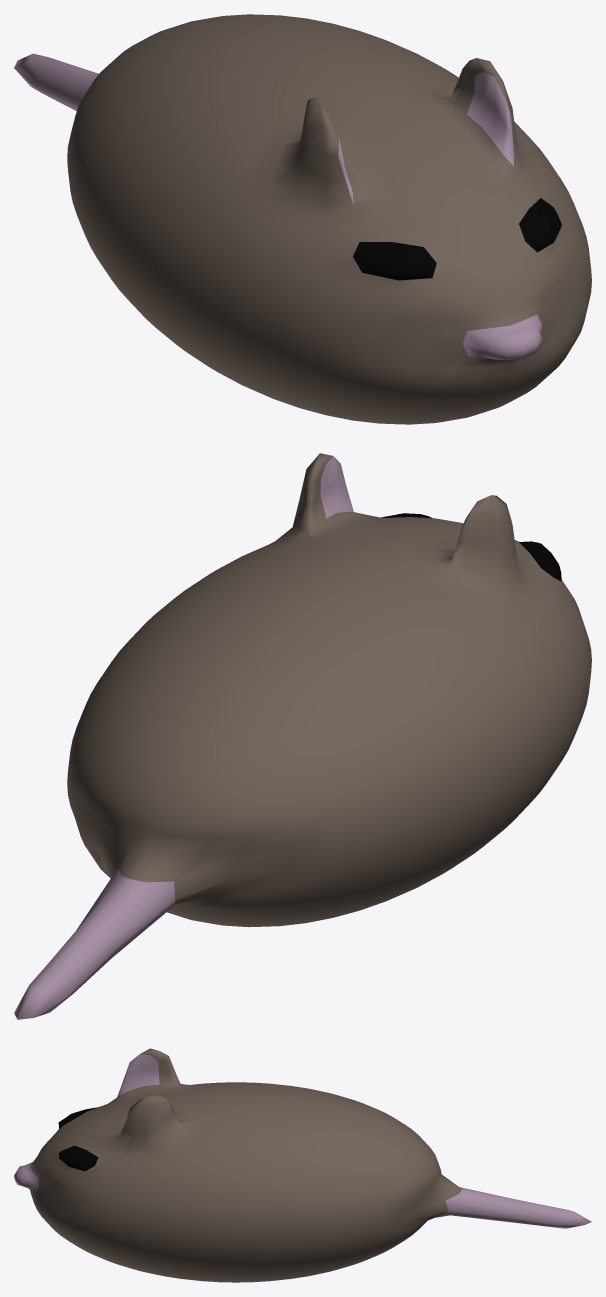
Rendered from Mouse.fbx.
3 views of the same model, one above another, from view 1: azimuth 30°, elevation 25°; view 2: azimuth 150°, elevation 25°; view 3: azimuth 270°, elevation 25° (orthographic). The views are drawn at different scales.
Visible parts, largest first — view 1: mouse; view 2: mouse; view 3: mouse.
Boxes of the visible parts, x1,y1,x2,y2 form: mouse: (14,14,591,424); mouse: (14,453,591,1019); mouse: (14,1048,591,1282).
Size of the model in its own units: 1.19 by 1.02 by 2.75.
